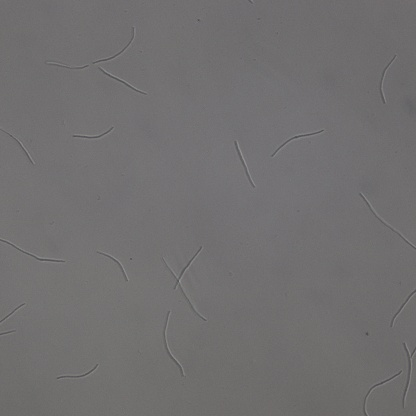Sensitive: (360, 193, 416, 250), (163, 248, 206, 320), (360, 372, 400, 416), (1, 238, 64, 264), (161, 311, 184, 375), (95, 28, 136, 62), (272, 129, 325, 155), (1, 127, 36, 165), (100, 68, 146, 94), (401, 342, 416, 406), (379, 54, 397, 103), (235, 142, 254, 188), (98, 251, 127, 281), (392, 291, 416, 326), (57, 364, 97, 382), (73, 127, 114, 141)
